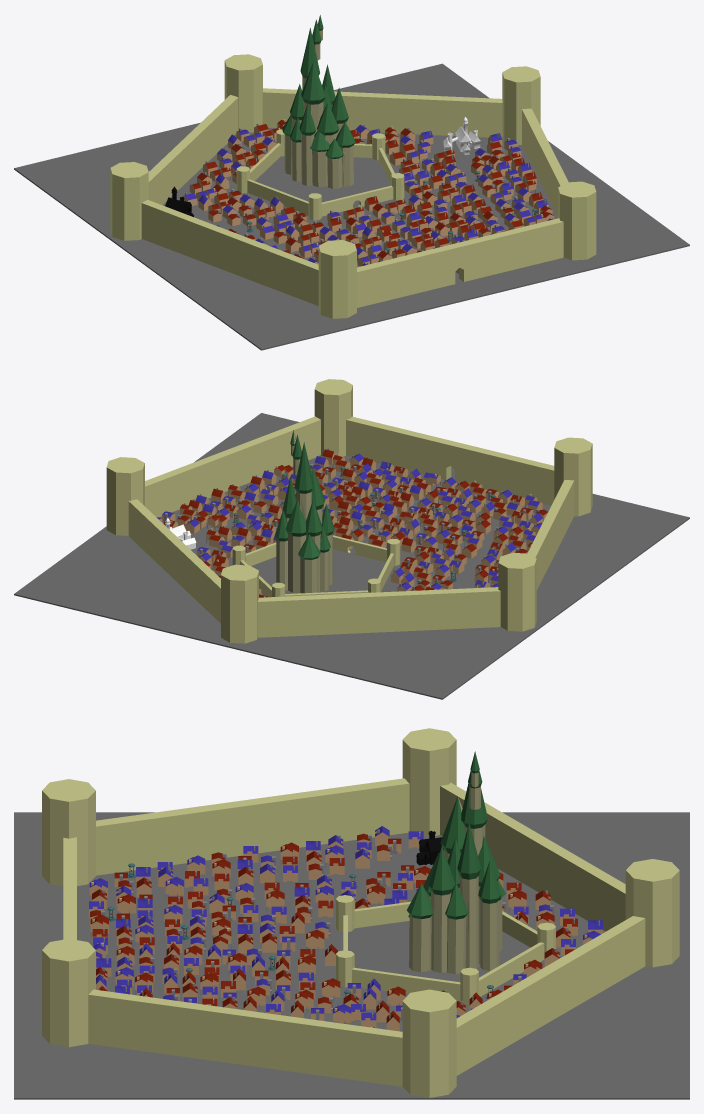
The model's file is cat_003.FBX.
3 renders of one model, top to bottom at view 1: azimuth 30°, elevation 25°; view 2: azimuth 150°, elevation 25°; view 3: azimuth 270°, elevation 25°, orthographic. The views are drawn at different scales.
Visible parts, largest first — view 1: Plain, Box002, Box004, Castle, Box006, Box005, Gengon002, Gengon003, Gengon005, Gengon006, Gengon004, Box003 (+3 smaller); view 2: Plain, Box005, Box002, Box003, Castle, Box006, Gengon005, Gengon006, Gengon004, Gengon002, Gengon003, Box004 (+1 smaller); view 3: Plain, Box003, Box004, Castle, Box006, Box005, Gengon004, Gengon003, Gengon002, Gengon006, Gengon005, Box009 (+8 smaller).
Part boxes in pixels (box(x1,y1,x2,y2)): Plain: box(14, 63, 689, 350); Box002: box(357, 218, 563, 307); Box004: box(141, 199, 318, 305); Castle: box(282, 15, 355, 188); Box006: box(262, 88, 502, 137); Box005: box(148, 95, 238, 205); Gengon002: box(318, 240, 356, 318); Gengon003: box(558, 181, 596, 260); Gengon005: box(110, 162, 148, 240); Gengon006: box(224, 54, 262, 132); Gengon004: box(502, 66, 540, 145); Box003: box(522, 108, 568, 216); Plain: box(14, 413, 689, 699); Box005: box(257, 587, 500, 637); Box002: box(346, 416, 554, 505); Box003: box(145, 416, 320, 517); Castle: box(274, 430, 334, 593); Box006: box(128, 499, 220, 623); Gengon005: box(498, 552, 536, 631); Gengon006: box(221, 564, 258, 643); Gengon004: box(106, 457, 144, 535); Gengon002: box(554, 437, 592, 516); Gengon003: box(314, 379, 352, 456); Box004: box(527, 480, 574, 590); Plain: box(14, 812, 689, 1099); Box003: box(88, 989, 402, 1086); Box004: box(96, 778, 409, 875); Castle: box(406, 751, 505, 974); Box006: box(456, 916, 645, 1075); Box005: box(440, 782, 625, 931); Gengon004: box(402, 989, 456, 1097); Gengon003: box(42, 938, 95, 1047); Gengon002: box(42, 779, 95, 886); Gengon006: box(625, 859, 679, 967); Gengon005: box(402, 728, 456, 836); Box009: box(352, 967, 460, 1001).
Bounding box in the file's own units: 39438 × 13805 × 39370.
